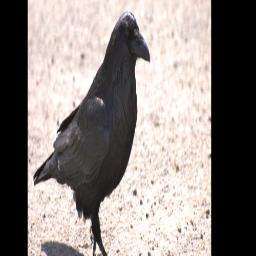Crow: (32, 10, 152, 256)
